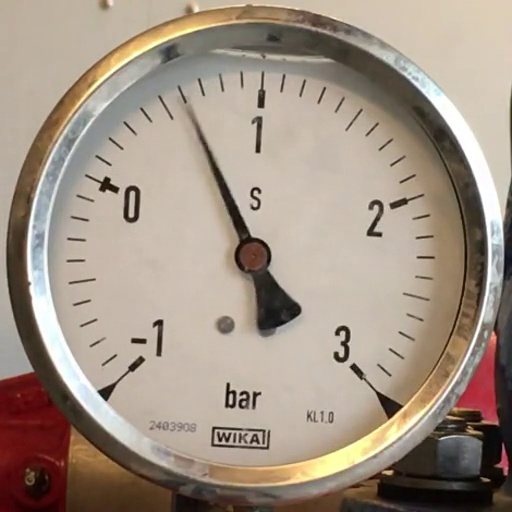base: (234, 238, 272, 274)
circle_plate: (48, 54, 466, 466)
maximum: (350, 362, 366, 380)
minimum: (128, 356, 146, 372)
number: (127, 316, 167, 361), (363, 196, 387, 240), (120, 181, 142, 226), (246, 112, 268, 156), (330, 322, 352, 364)
tip: (180, 96, 194, 114)
